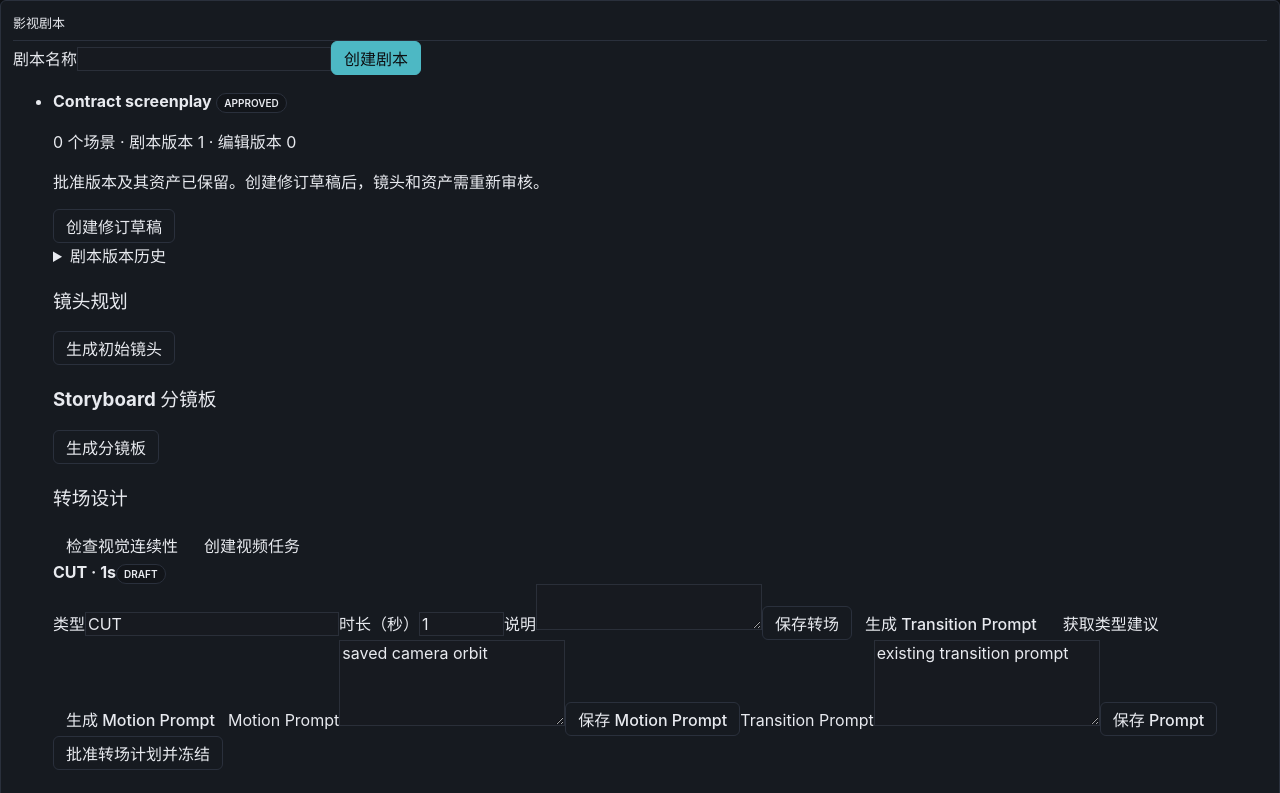
Scenario: ScreenplayPanel Motion Prompt contract › fails closed for an empty generated value  without replacing the saved prompt
Step 1. Click the button "生成 Motion Prompt" → x=140, y=719, box [53, 702, 228, 736]
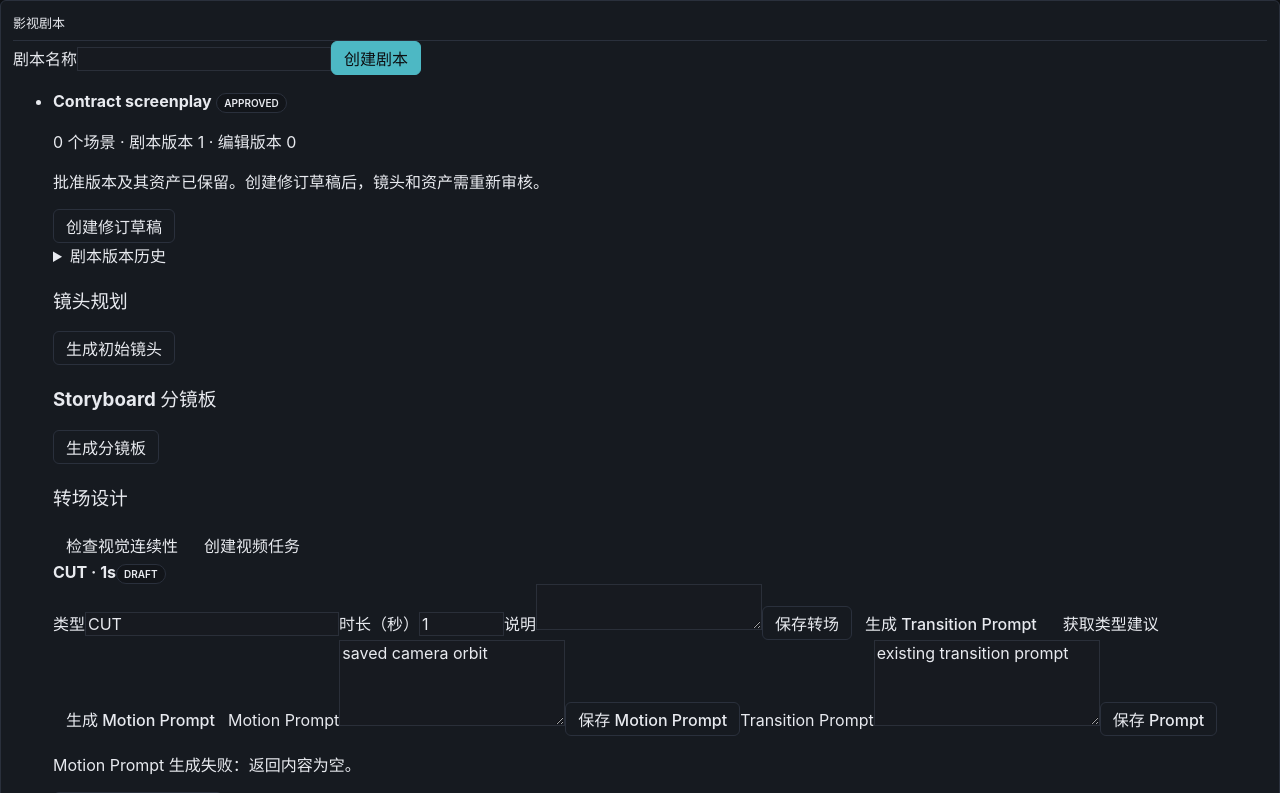
Expected: the text box showing "saved camera orbit" is shown, [339, 640, 565, 726]
Expected: the text "Motion Prompt 生成失败：返回内容为空。" is shown, [53, 755, 361, 775]
